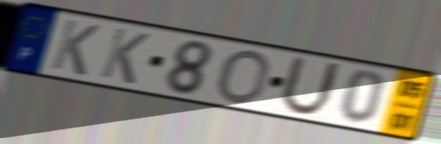0: (337, 68, 389, 127)
8: (164, 39, 215, 97)
K: (48, 17, 103, 79), (98, 26, 152, 87)
O: (214, 47, 273, 106)
U: (276, 53, 344, 119)
